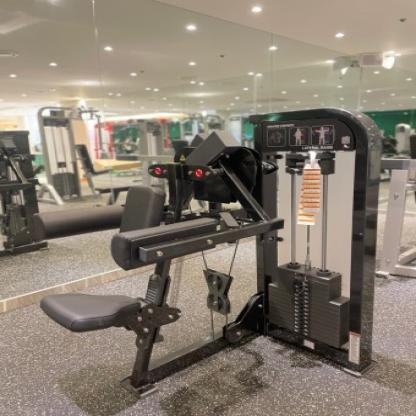lateral raises machine: (28, 129, 375, 395)
